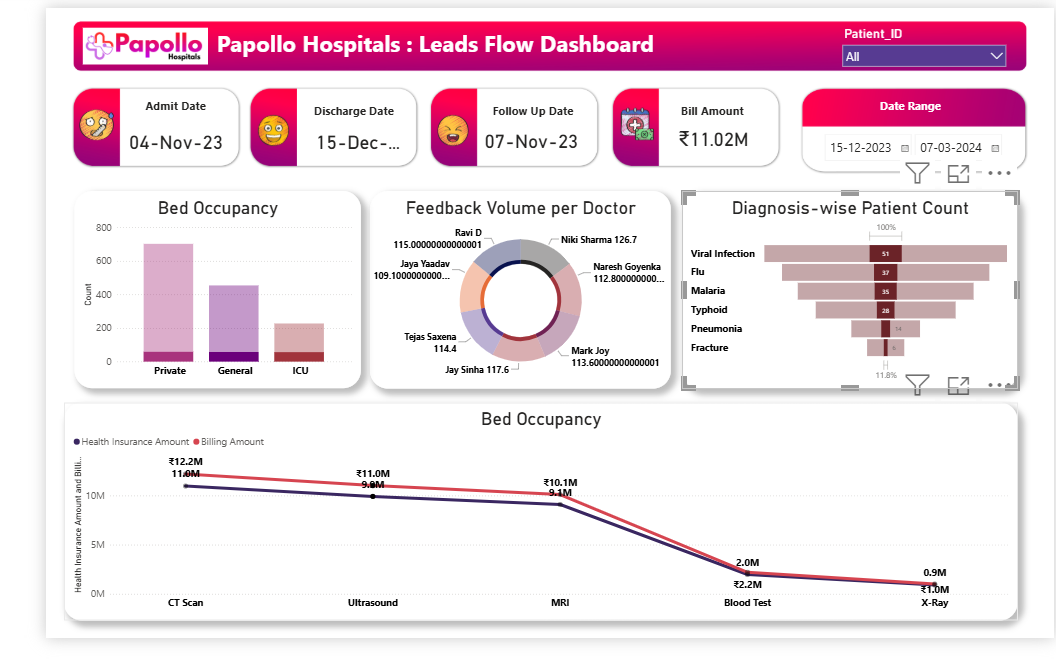

The page's visual inventory and layout, read from the dashboard file:
{"tool":"powerbi","page":{"name":"dashboard","canvas":[1680,1050],"ordinal":0},"visuals":[{"type":"textbox","box":[280,27.1,755.7,74.3],"z":0},{"type":"image","box":[2636.7,100,623.3,150],"z":1000},{"type":"slicer","fields":{"Values":["Sheet1.Patient_ID"]},"box":[2400,373.3,793.3,420],"z":2000},{"type":"card","fields":{"Values":["Min(Sheet1.Admit_Date)"]},"box":[437.6,198.8,162.9,42.8],"z":3000},{"type":"card","fields":{"Values":["Min(Sheet1.Discharge_Date)"]},"box":[129.8,198.8,172.6,42.8],"z":4000},{"type":"card","fields":{"Values":["Min(Sheet1.Followup Date)"]},"box":[724.3,198.6,167.1,42.9],"z":5000},{"type":"textbox","box":[152.9,145.7,127.1,57.1],"z":6000},{"type":"textbox","box":[437.1,151.4,151.4,37.1],"z":7000},{"type":"textbox","box":[732.9,151.4,158.6,37.1],"z":8000},{"type":"textbox","box":[1035.7,151.4,151.4,37.1],"z":9000},{"type":"card","fields":{"Values":["Sum(Sheet1.Billing Amount)"]},"box":[1031.4,194.3,158.6,42.9],"z":10000},{"type":"image","box":[50,157.1,68.6,74.3],"z":11000},{"type":"image","box":[348.6,172.9,62.9,62.9],"z":12000},{"type":"image","box":[640,171.4,77.1,62.9],"z":13000},{"type":"image","box":[951.4,158.6,65.7,71.4],"z":14000},{"type":"columnChart","title":"Bed Occupancy","fields":{"Category":["Sheet1.Bed_Occupancy"],"Y":["CountNonNull(Sheet1.Bed_Occupancy)"]},"box":[47.1,305.7,477.1,328.6],"z":15000},{"type":"donutChart","title":"Feedback Volume per Doctor","fields":{"Category":["Sheet1.Doctor"],"Y":["Sum(Sheet1.Feedback)"]},"box":[540.2,305.2,501,329.5],"z":16000},{"type":"funnel","title":"Diagnosis-wise Patient Count","fields":{"Category":["Sheet1.Diagnosis"],"Y":["CountNonNull(Sheet1.Diagnosis)"]},"box":[1060,305.7,560,330],"z":17000},{"type":"image","box":[30.2,27.8,271.4,71.9],"z":18000},{"type":"lineChart","title":"Bed Occupancy","fields":{"Y":["Sum(Sheet1.Health Insurance Amount)","Sum(Sheet1.Billing Amount)"],"Category":["Sheet1.Test"]},"box":[31.1,656.3,1589.5,363.3],"z":19000},{"type":"slicer","fields":{"Values":["Sheet1.Admit_Date"]},"box":[1284.3,201.2,360.6,68.9],"z":20000},{"type":"slicer","fields":{"Values":["Sheet1.Patient_ID"]},"box":[1317.1,24.3,292.9,82.9],"z":21000},{"type":"textbox","box":[1365.7,145.7,151.4,37.1],"z":22000}]}

Visuals, with their boxes in screenshot pixels (x1, y1, x2, y2), scaled from the page's 1680x1050 canvas onto the 1056x659 screenshot:
textbox: [176,17,651,64]
card - Min(Sheet1.Admit_Date): [275,125,377,152]
card - Min(Sheet1.Discharge_Date): [82,125,190,152]
card - Min(Sheet1.Followup Date): [455,125,560,152]
textbox: [96,91,176,127]
textbox: [275,95,370,118]
textbox: [461,95,560,118]
textbox: [651,95,746,118]
card - Sum(Sheet1.Billing Amount): [648,122,748,149]
image: [31,99,75,145]
image: [219,109,259,148]
image: [402,108,451,147]
image: [598,100,639,144]
"Bed Occupancy" columnChart: [30,192,329,398]
"Feedback Volume per Doctor" donutChart: [340,192,654,398]
"Diagnosis-wise Patient Count" funnel: [666,192,1018,399]
image: [19,17,190,63]
"Bed Occupancy" lineChart: [20,412,1019,640]
slicer - Sheet1.Admit_Date: [807,126,1034,170]
slicer - Sheet1.Patient_ID: [828,15,1012,67]
textbox: [858,91,954,115]
